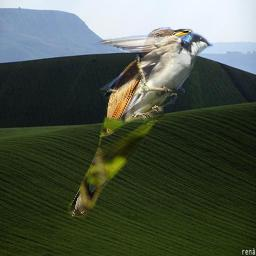Cuckoo: (65, 24, 195, 222)
Swallow: (91, 31, 213, 124)
